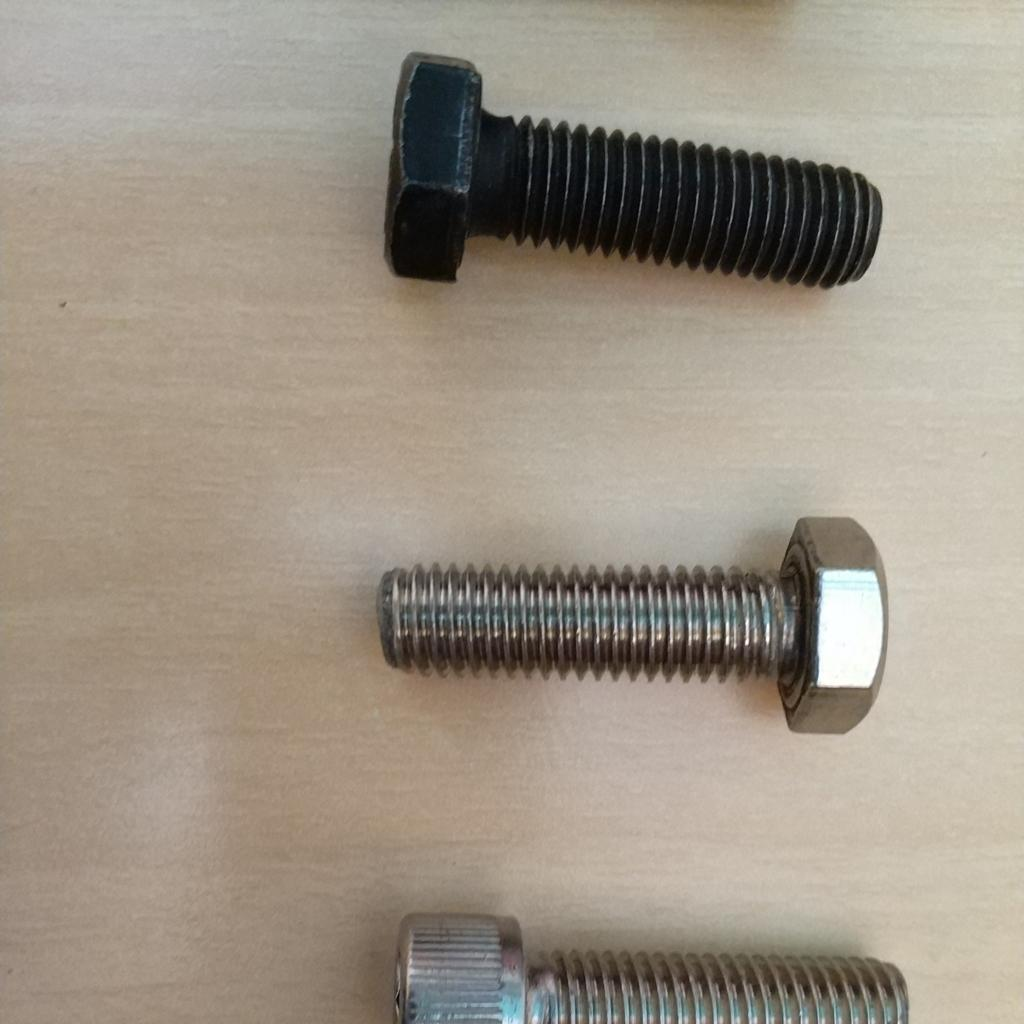screwtype1silver: (376, 910, 915, 1024)
screwtype2black: (378, 47, 885, 324)
screwtype2silver: (363, 510, 885, 744)
